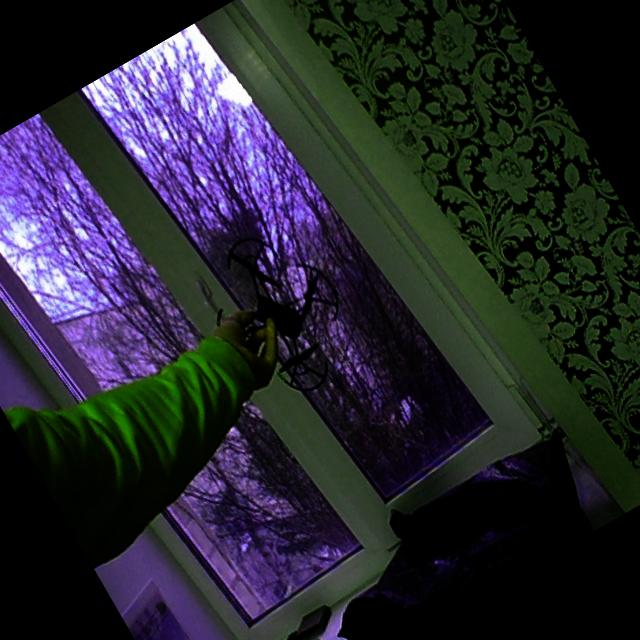drone: (182, 204, 384, 423)
